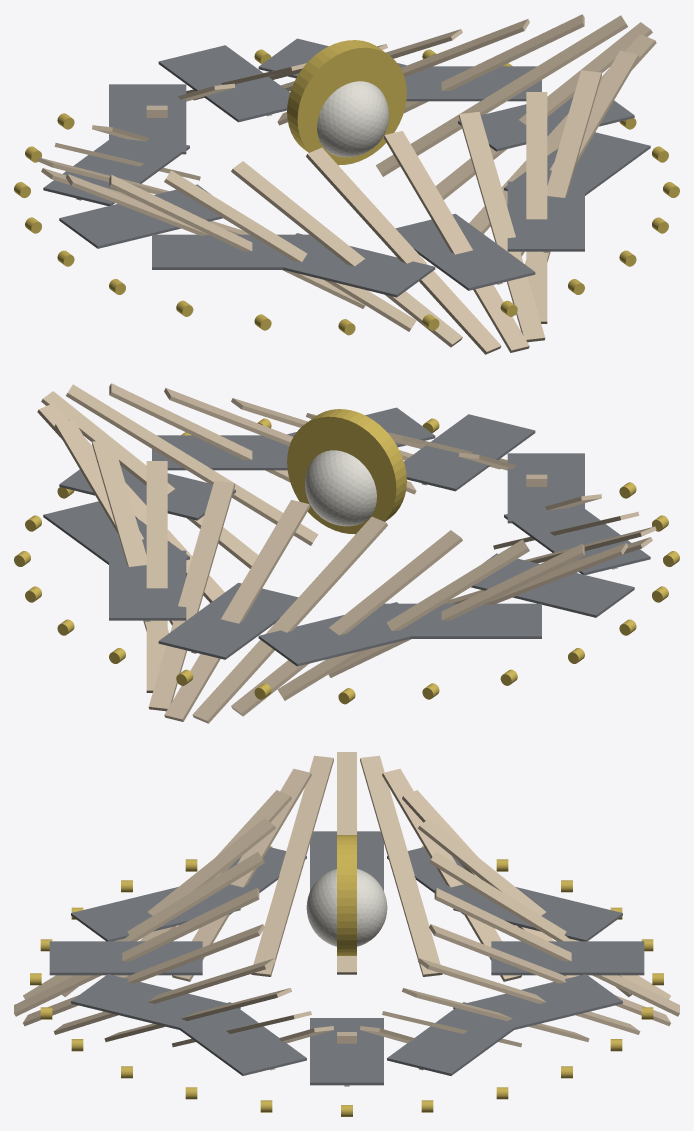
File: stratavox_cloud.glb
3 renders of one model, top to bottom at view 1: azimuth 30°, elevation 25°; view 2: azimuth 150°, elevation 25°; view 3: azimuth 270°, elevation 25°, orthographic. The views are drawn at different scales.
Visible parts, largest first — view 1: geometry_0, geometry_58, geometry_28, geometry_22, geometry_24, geometry_18, geometry_20, geometry_1, geometry_34, geometry_16, geometry_46, geometry_14 (+20 smaller); view 2: geometry_0, geometry_22, geometry_58, geometry_54, geometry_46, geometry_60, geometry_52, geometry_56, geometry_1, geometry_64, geometry_28, geometry_34 (+20 smaller); view 3: geometry_10, geometry_70, geometry_36, geometry_42, geometry_4, geometry_22, geometry_58, geometry_64, geometry_16, geometry_1, geometry_28, geometry_52 (+21 smaller).
Part boxes in pixels (left/top/right/bottom): geometry_0: left=287, top=40, right=406, bottom=165; geometry_58: left=158, top=45, right=289, bottom=122; geometry_28: left=260, top=233, right=435, bottom=297; geometry_22: left=395, top=213, right=535, bottom=290; geometry_24: left=306, top=147, right=501, bottom=354; geometry_18: left=458, top=111, right=545, bottom=342; geometry_20: left=383, top=131, right=529, bottom=352; geometry_1: left=317, top=81, right=388, bottom=157; geometry_34: left=152, top=234, right=311, bottom=269; geometry_16: left=507, top=181, right=584, bottom=251; geometry_46: left=43, top=129, right=189, bottom=205; geometry_14: left=526, top=92, right=547, bottom=323; geometry_0: left=287, top=409, right=406, bottom=534; geometry_22: left=404, top=414, right=535, bottom=491; geometry_58: left=158, top=582, right=298, bottom=659; geometry_54: left=192, top=516, right=387, bottom=723; geometry_46: left=382, top=603, right=541, bottom=638; geometry_60: left=148, top=480, right=235, bottom=711; geometry_52: left=258, top=602, right=432, bottom=666; geometry_56: left=164, top=500, right=310, bottom=721; geometry_1: left=305, top=450, right=376, bottom=526; geometry_64: left=109, top=550, right=186, bottom=620; geometry_28: left=507, top=453, right=584, bottom=523; geometry_34: left=504, top=498, right=650, bottom=574; geometry_10: left=166, top=1002, right=306, bottom=1075; geometry_70: left=387, top=1002, right=527, bottom=1075; geometry_36: left=251, top=755, right=333, bottom=976; geometry_42: left=360, top=755, right=442, bottom=976; geometry_4: left=310, top=1018, right=383, bottom=1085; geometry_22: left=49, top=941, right=202, bottom=975; geometry_58: left=491, top=941, right=644, bottom=975; geometry_64: left=453, top=974, right=622, bottom=1032; geometry_16: left=71, top=974, right=240, bottom=1029; geometry_1: left=306, top=868, right=387, bottom=946; geometry_28: left=71, top=887, right=240, bottom=941; geometry_52: left=453, top=887, right=622, bottom=941.
Bounding box in the file's own units: 1.98 × 0.5636 × 1.98.
